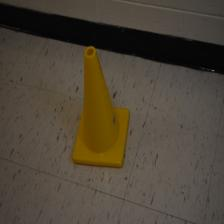cone: (72, 45, 131, 167)
